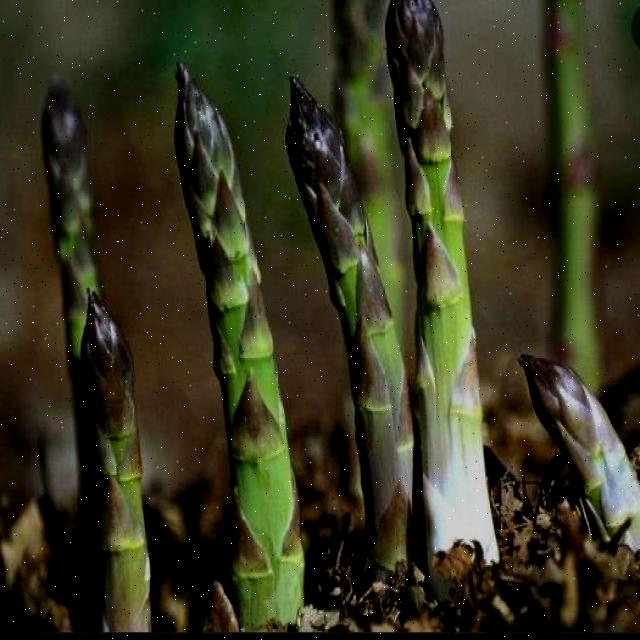aspargus: (171, 63, 306, 632), (381, 0, 505, 565), (286, 73, 414, 580), (78, 285, 155, 625)
